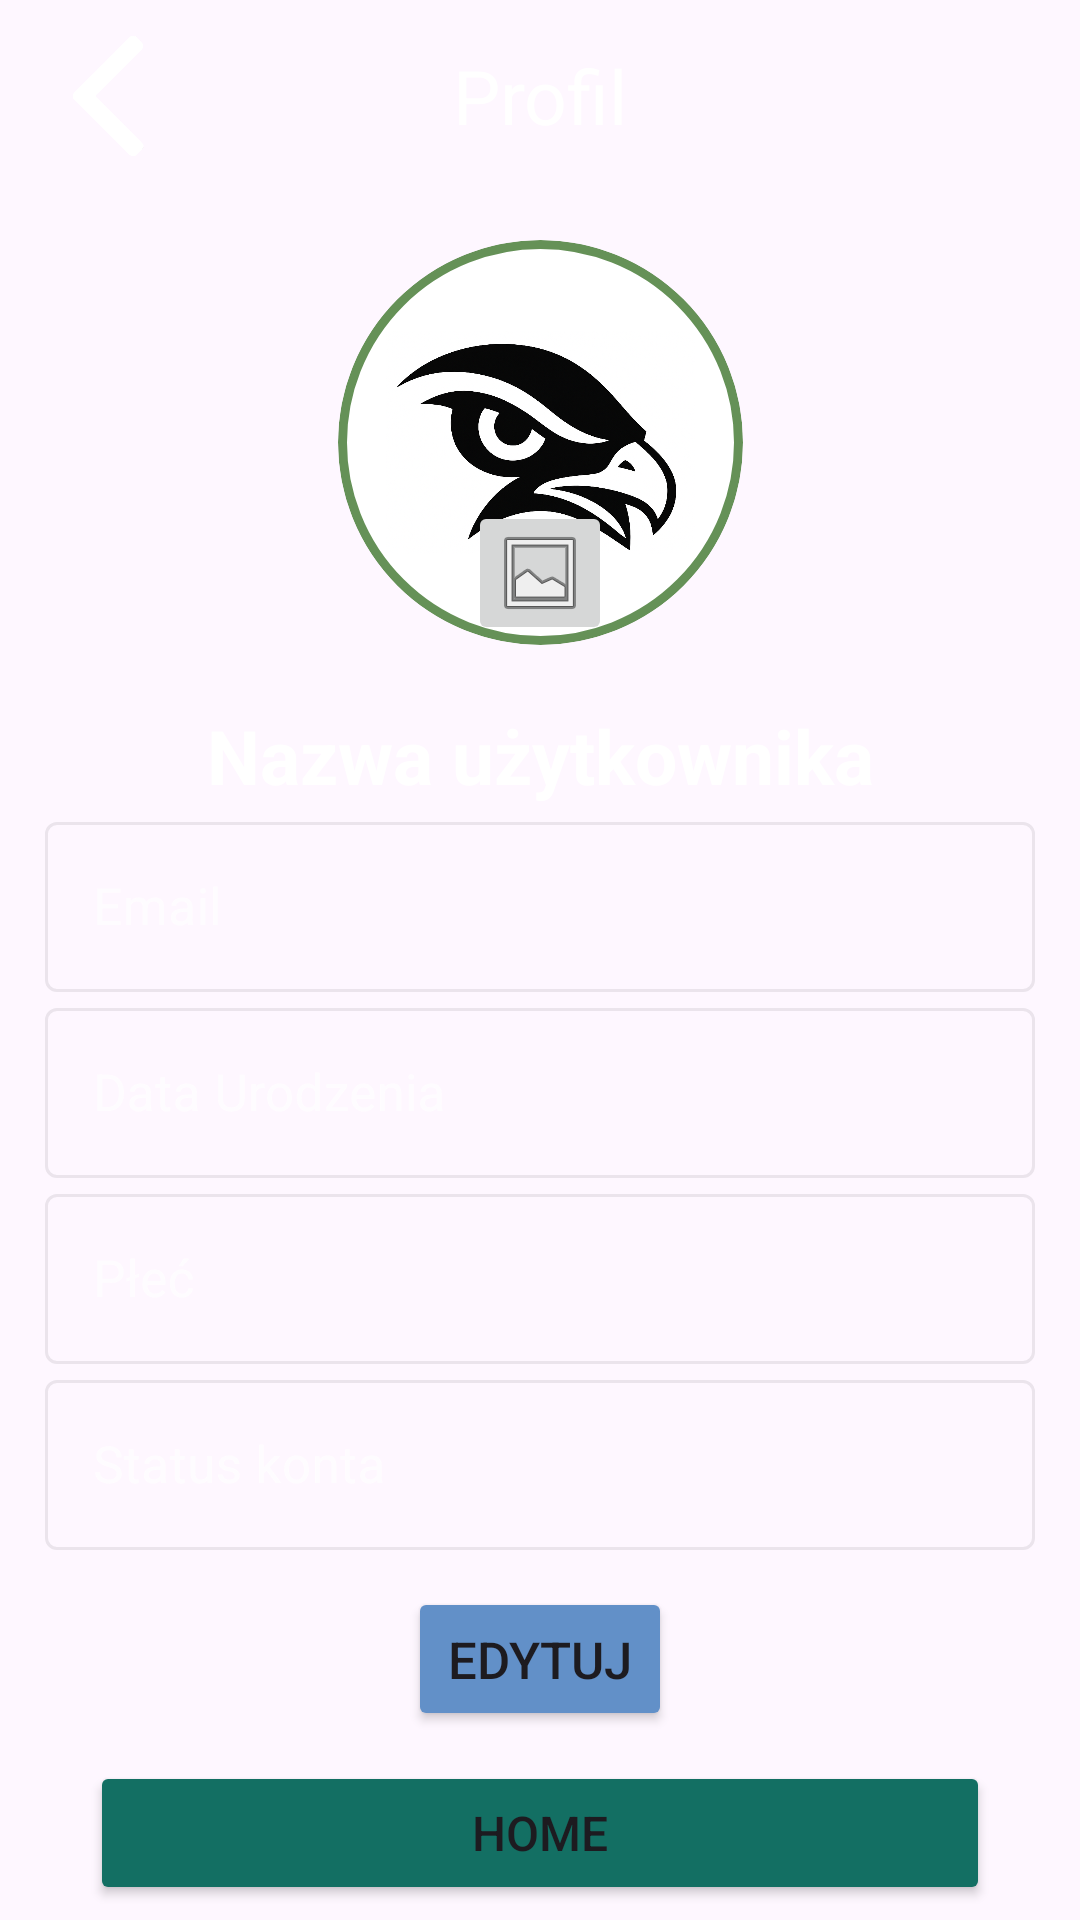

Screen size 1080x1920. Icon name, then its box in pixels as (x1, y1, x2, y2):
gallery: (468, 501, 612, 645)
